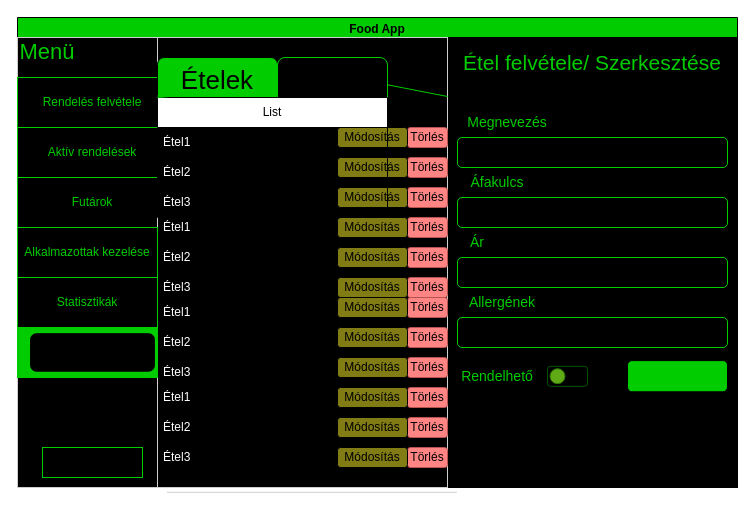
Image size: 755x511. Some labels were removed from this diagram. The shapes that lost their labels are listed below. From the top down, each one's centre as x and y in pixels, then its label:
At pixel 332 82: "Feltétek".
At pixel 92 352: "Ételek/feltétek felvétele".
At pixel 677 376: "Mentés".
At pixel 92 462: "Kijelentkezés".
